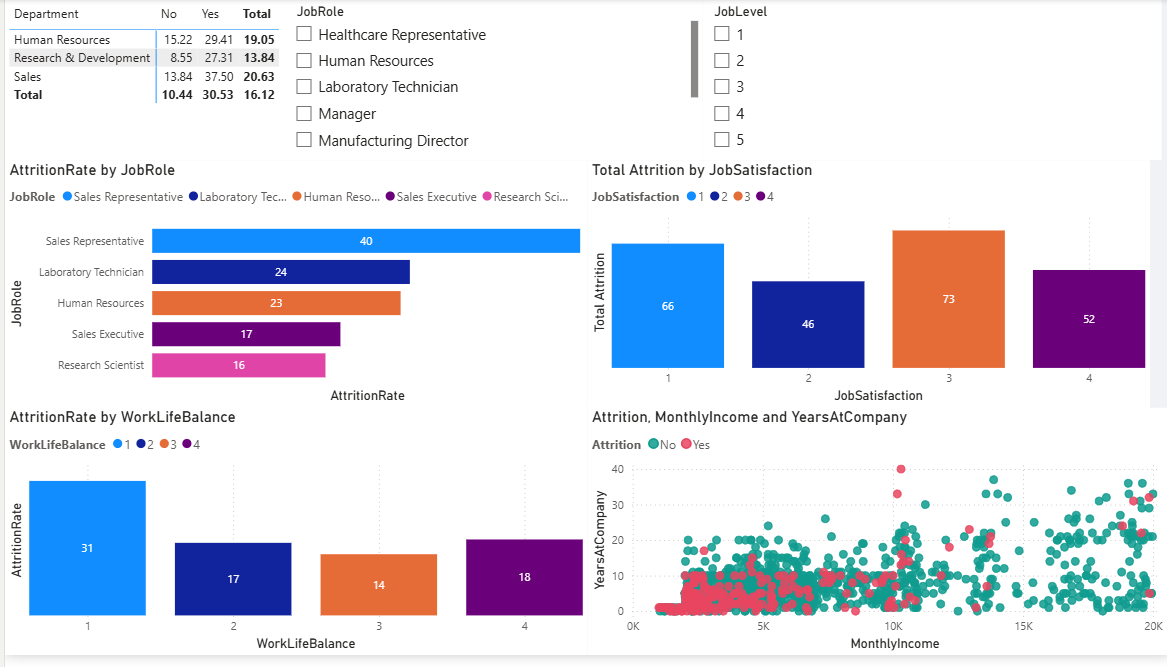

The page's visual inventory and layout, read from the dashboard file:
{"tool":"powerbi","page":{"name":"Page 3","canvas":[1280,720],"ordinal":2},"visuals":[{"type":"barChart","title":"AttritionRate by JobRole","fields":{"Category":["hr_attrition_clean.JobRole"],"Y":["hr_attrition_clean.AttritionRate"],"Series":["hr_attrition_clean.JobRole"]},"box":[0,177,639.5,271.7],"z":0},{"type":"pivotTable","fields":{"Rows":["hr_attrition_clean.Department"],"Columns":["hr_attrition_clean.OverTime"],"Values":["hr_attrition_clean.AttritionRate"]},"box":[0,0,319.7,177],"z":1000},{"type":"columnChart","title":"Total Attrition by JobSatisfaction","fields":{"Y":["Sum(hr_attrition_clean.Attrition_Binary)"],"Category":["hr_attrition_clean.JobSatisfaction"],"Series":["hr_attrition_clean.JobSatisfaction"]},"box":[639.5,177,617.5,271.7],"z":2000},{"type":"columnChart","title":"AttritionRate by WorkLifeBalance","fields":{"Y":["hr_attrition_clean.AttritionRate"],"Category":["hr_attrition_clean.WorkLifeBalance"],"Series":["hr_attrition_clean.WorkLifeBalance"]},"box":[0,448.7,639.5,271.7],"z":3000},{"type":"scatterChart","fields":{"X":["hr_attrition_clean.MonthlyIncome"],"Y":["hr_attrition_clean.YearsAtCompany"],"Series":["hr_attrition_clean.Attrition"]},"box":[639.5,448.7,640.8,271.7],"z":4000},{"type":"slicer","fields":{"Values":["hr_attrition_clean.JobRole"]},"box":[307.4,0,458.3,177],"z":5000},{"type":"slicer","fields":{"Values":["hr_attrition_clean.JobLevel"]},"box":[765.7,0,503.6,177],"z":6000}]}

Visuals, with their boxes in screenshot pixels (x1, y1, x2, y2), scaled from the page's 1280x720 canvas onto the 1167x667 screenshot:
"AttritionRate by JobRole" barChart: [0, 164, 583, 416]
pivotTable - hr_attrition_clean.Department x hr_attrition_clean.OverTime: [0, 0, 291, 164]
"Total Attrition by JobSatisfaction" columnChart: [583, 164, 1146, 416]
"AttritionRate by WorkLifeBalance" columnChart: [0, 416, 583, 666]
scatterChart - hr_attrition_clean.MonthlyIncome x hr_attrition_clean.YearsAtCompany: [583, 416, 1166, 666]
slicer - hr_attrition_clean.JobRole: [280, 0, 698, 164]
slicer - hr_attrition_clean.JobLevel: [698, 0, 1157, 164]
